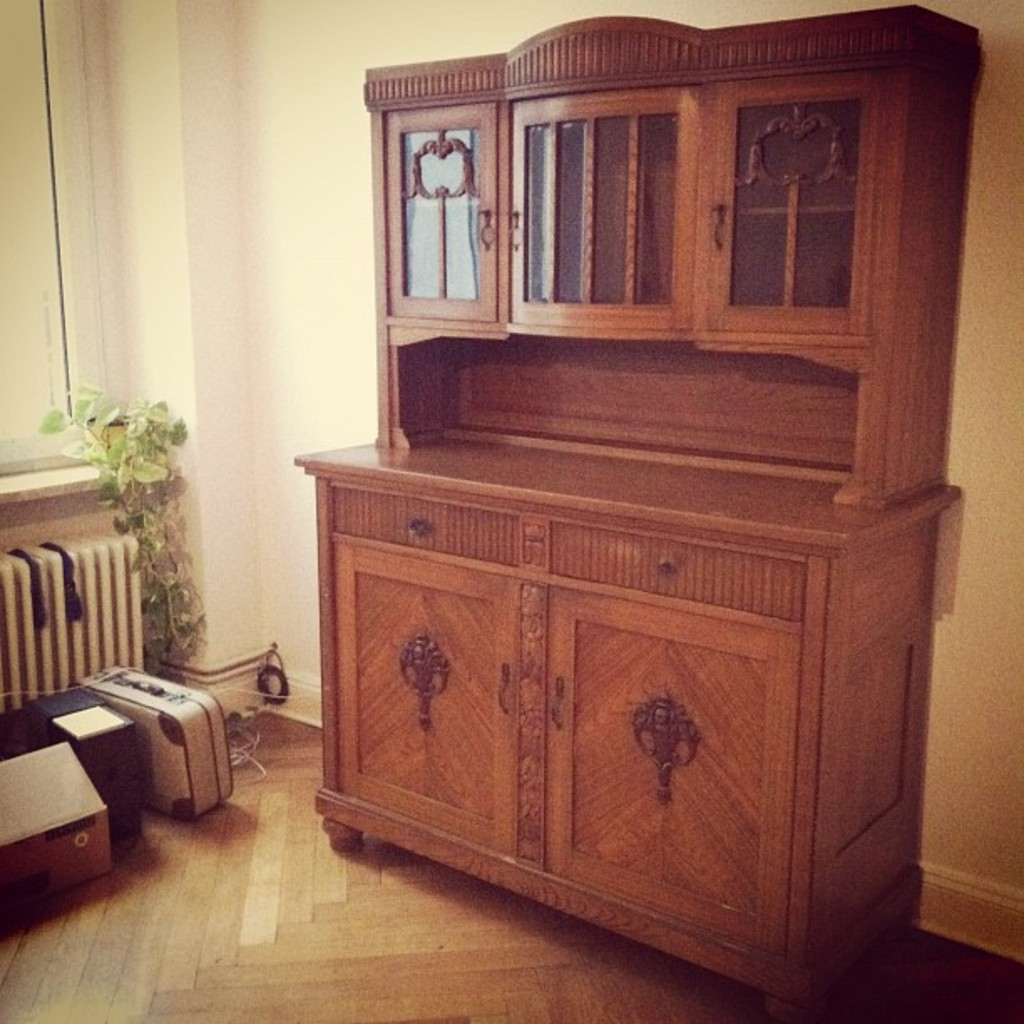cabinet door: (550, 609, 785, 895), (342, 560, 523, 814), (514, 101, 682, 319), (710, 102, 871, 314), (552, 529, 806, 620), (382, 115, 499, 310), (348, 495, 514, 566)
handle: (543, 674, 569, 742), (488, 658, 515, 717), (651, 550, 680, 586), (478, 202, 497, 245), (713, 212, 733, 252), (402, 516, 434, 539), (509, 201, 525, 247)
